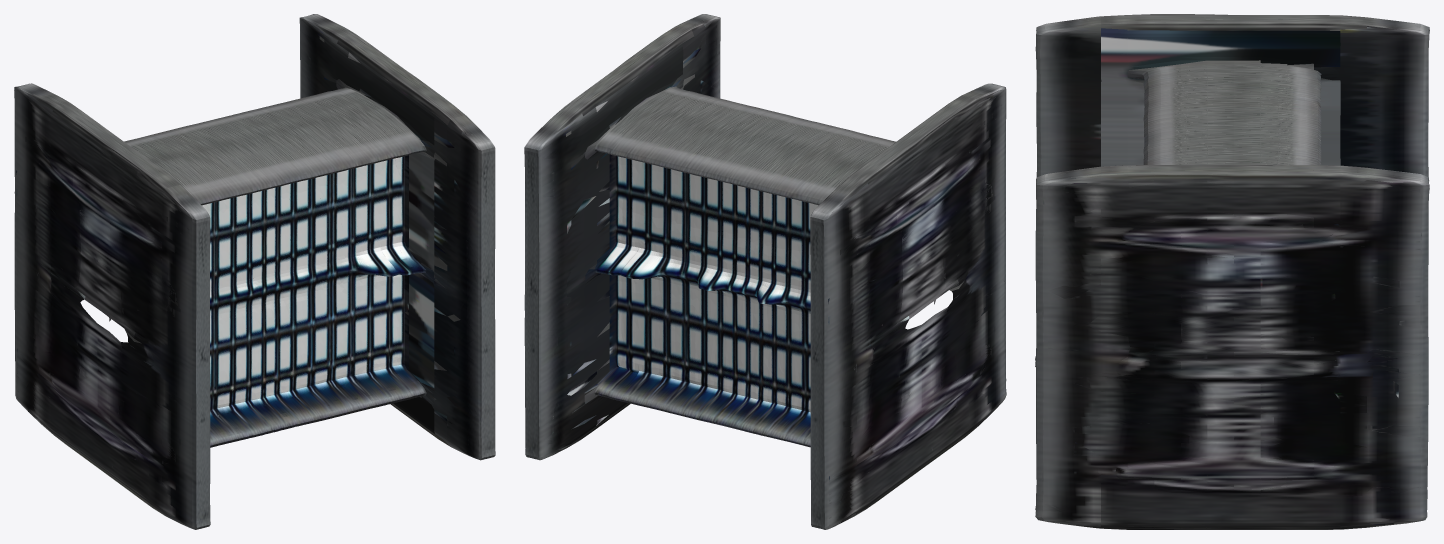
The model's file is feature-quarantine-fence.glb.
The picture shows the model from 3 angles, left to right: view 1: azimuth 30°, elevation 25°; view 2: azimuth 150°, elevation 25°; view 3: azimuth 270°, elevation 25°; orthographic projection. The views are drawn at different scales.
Visible parts, largest first — view 1: tmp8k959zsi.ply; view 2: tmp8k959zsi.ply; view 3: tmp8k959zsi.ply.
Boxes of the visible parts, <box> form: tmp8k959zsi.ply: <box>14,14,495,529</box>; tmp8k959zsi.ply: <box>524,14,1006,529</box>; tmp8k959zsi.ply: <box>1035,14,1429,529</box>.
Size of the model in its own units: 1 by 1 by 1.
Materials: 1 (1 with a texture image).
